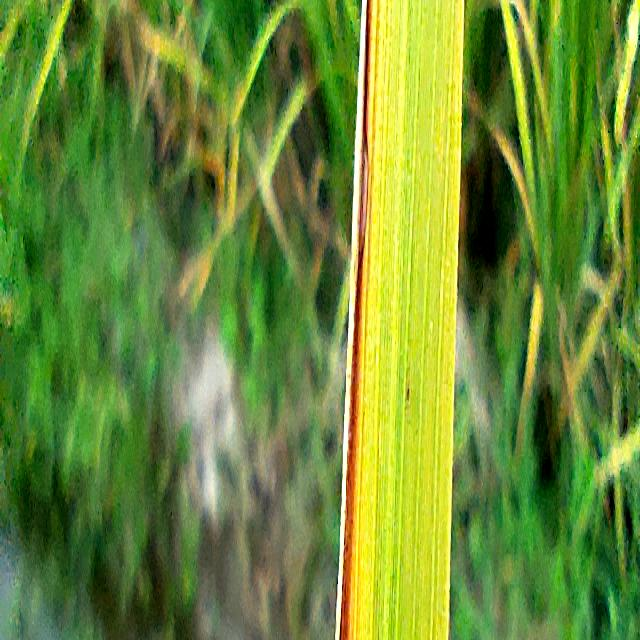BLB: (335, 0, 373, 640)
